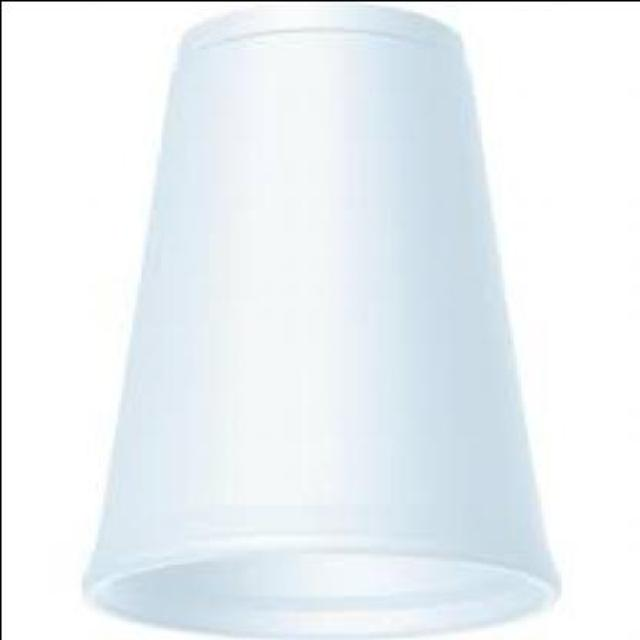PAPER: (86, 3, 565, 639)
